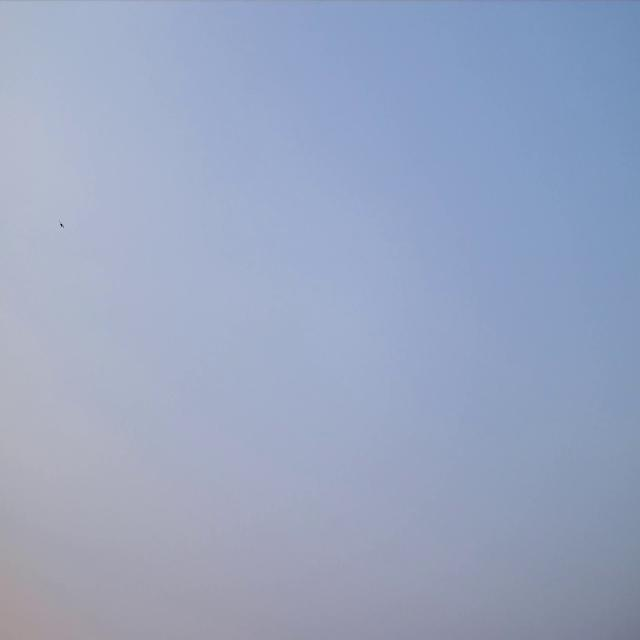UAV: (59, 219, 64, 229)
